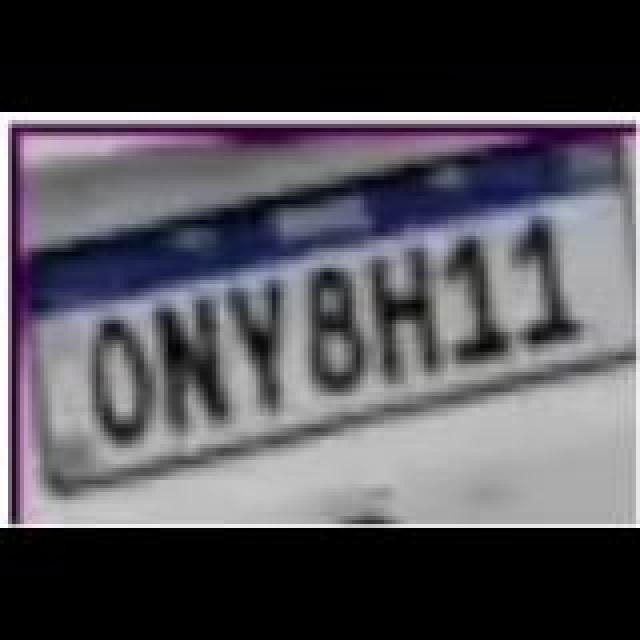1: (516, 218, 588, 350), (446, 236, 514, 364)
8: (308, 264, 372, 392)
H: (370, 244, 446, 380)
N: (160, 294, 232, 434)
O: (90, 314, 158, 446)
Y: (226, 276, 294, 412)
